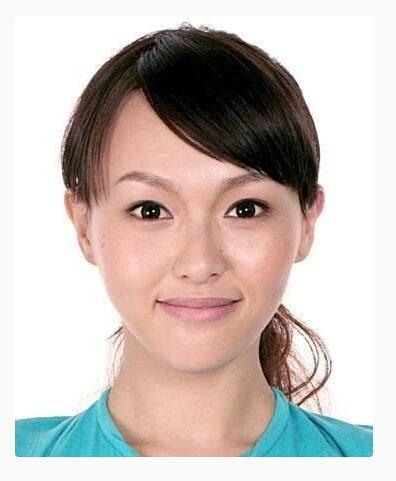unmask: (91, 116, 305, 354)
